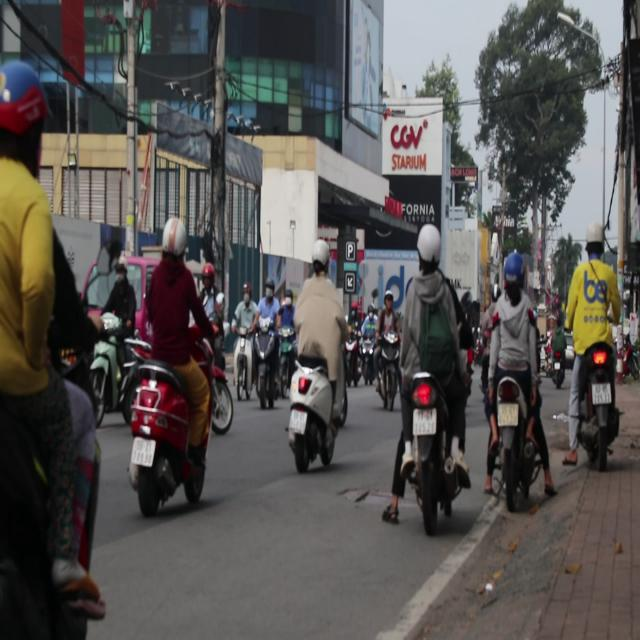motorbike: (119, 338, 213, 516), (401, 372, 468, 546), (284, 329, 347, 473), (494, 368, 544, 511), (569, 335, 619, 477), (89, 316, 141, 427), (205, 342, 235, 434), (250, 325, 282, 409), (232, 322, 261, 407), (376, 328, 400, 405), (544, 324, 567, 385)
